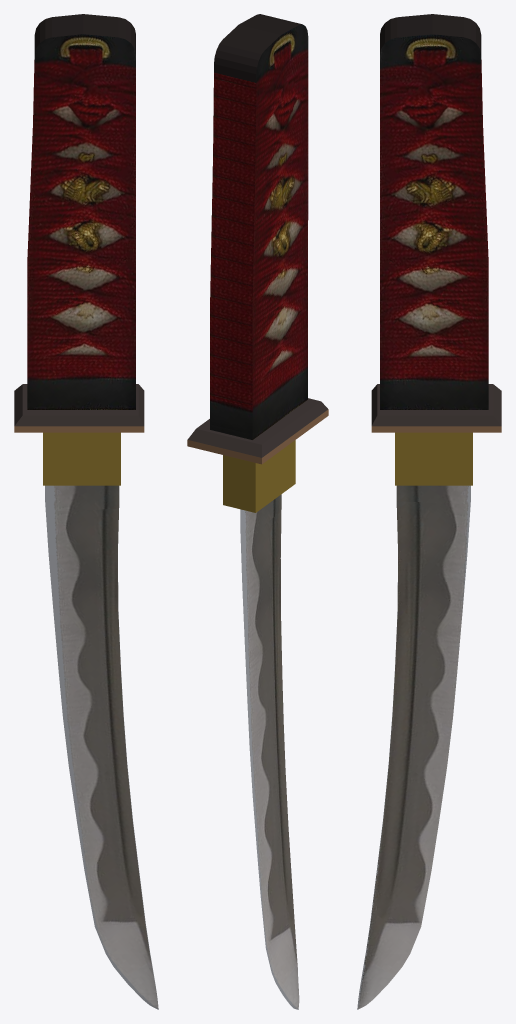
Rendered from YCTanto.fbx.
3 renders of one model, left to right at view 1: azimuth 90°, elevation 25°; view 2: azimuth 150°, elevation 25°; view 3: azimuth 270°, elevation 25°, orthographic. The views are drawn at different scales.
Visible parts, largest first — view 1: Tanto; view 2: Tanto; view 3: Tanto.
Boxes of the visible parts, x1=… form: Tanto: x1=14, y1=14, x2=158, y2=1009; Tanto: x1=187, y1=14, x2=328, y2=1009; Tanto: x1=357, y1=14, x2=501, y2=1009.
Bounding box in the file's own units: 0.0202 × 0.2617 × 0.0347.
